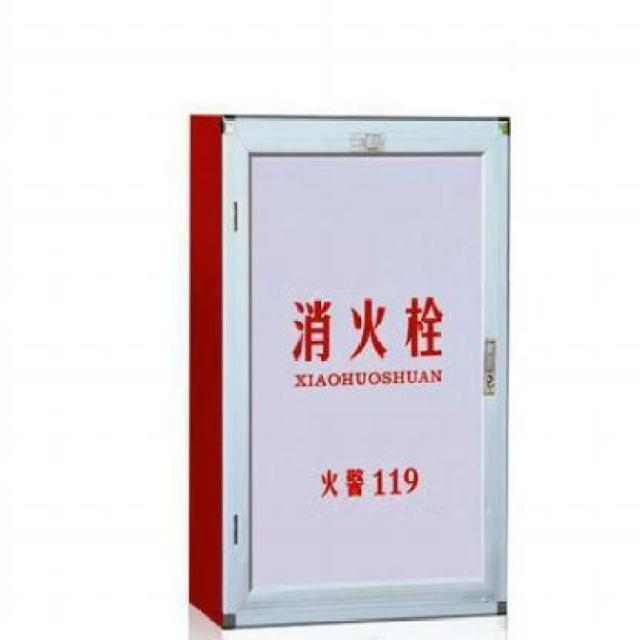firehydrant: (184, 109, 514, 633)
